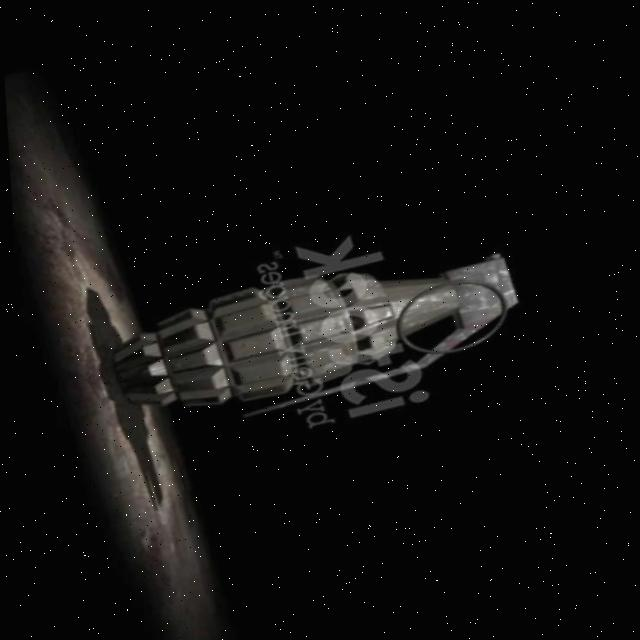grenade: (65, 202, 560, 457)
